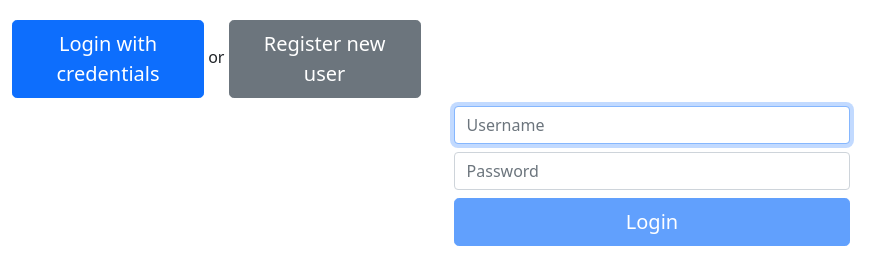
it: Pressing "Register new user" button should change the label of Login button to Sign Up
What coordinates should you click on to do the following:
click the button "Register new user"
I would click on:
 (325, 59)
Its box is x1=229 y1=20 x2=421 y2=98.
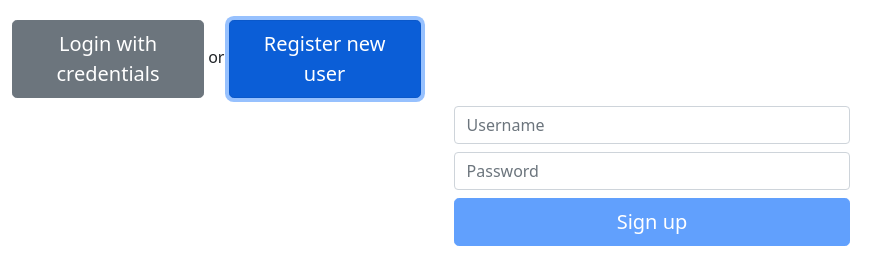
Now the button "Sign up" is shown, box x1=454 y1=198 x2=850 y2=246
